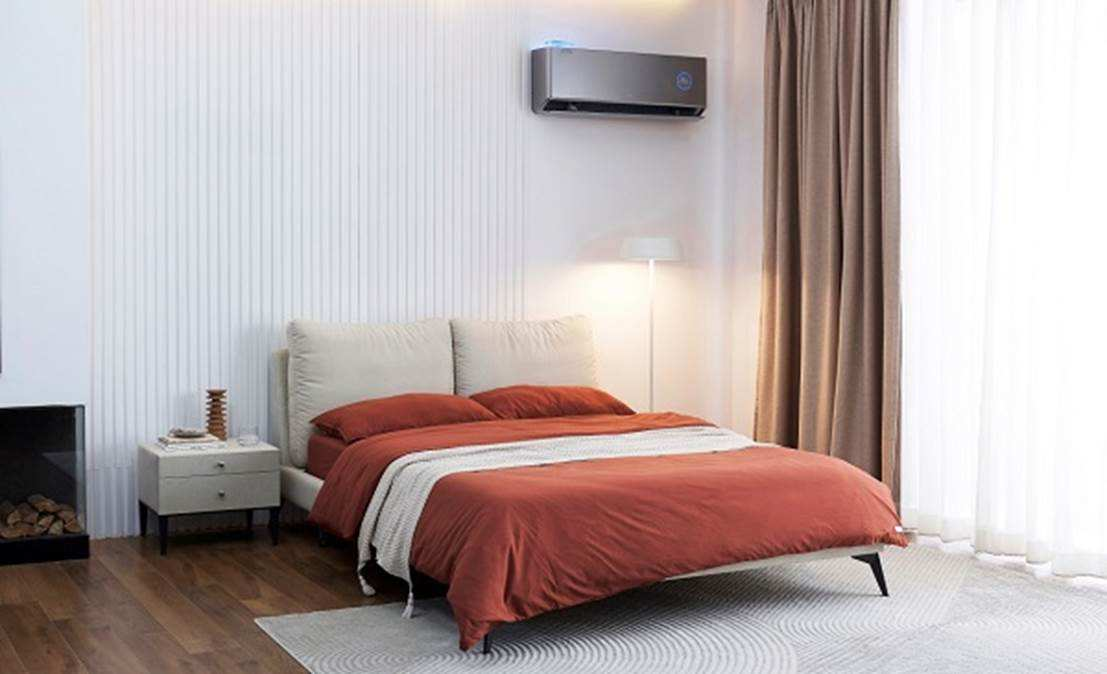床: (308, 409, 911, 637)
枕头: (297, 313, 631, 437)
灯: (615, 234, 697, 419)
